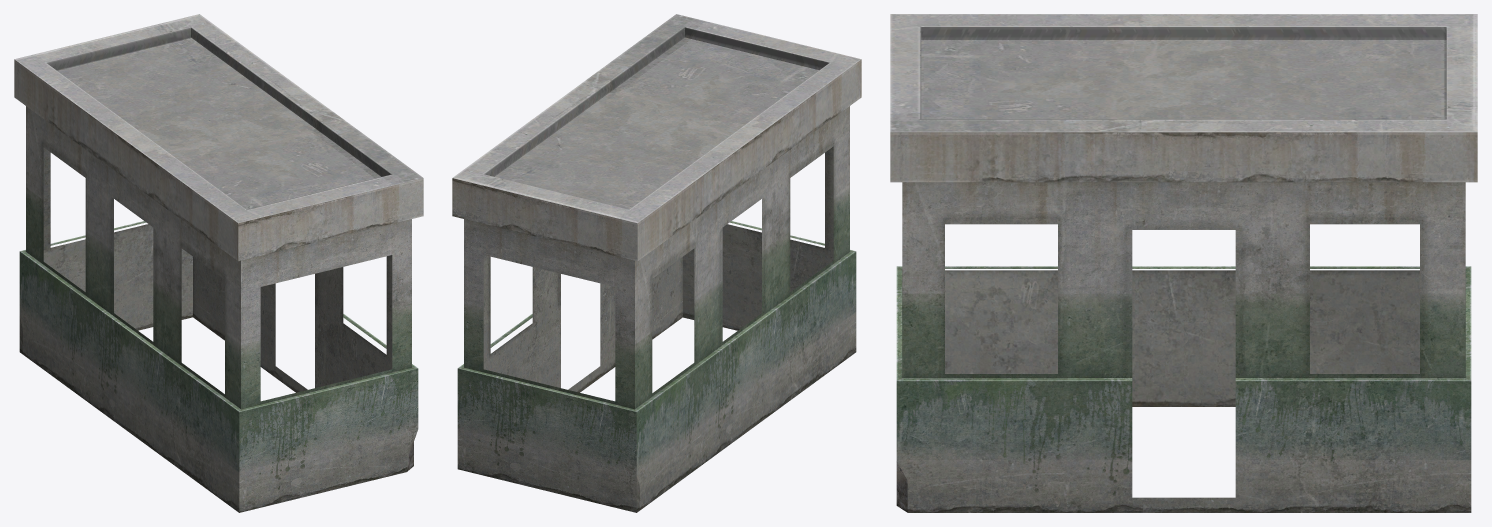
Rendered from Building_Mws02_lod2.glb.
3 renders of one model, left to right at view 1: azimuth 30°, elevation 25°; view 2: azimuth 150°, elevation 25°; view 3: azimuth 270°, elevation 25°, orthographic. The views are drawn at different scales.
Visible parts, largest first — view 1: xiutz_mws_02_lod2; view 2: xiutz_mws_02_lod2; view 3: xiutz_mws_02_lod2.
Boxes of the visible parts, box(x1,y1,x2,y2) form: xiutz_mws_02_lod2: box(14, 14, 423, 512); xiutz_mws_02_lod2: box(452, 14, 861, 512); xiutz_mws_02_lod2: box(890, 14, 1477, 512).
Size of the model in its own units: 3.42 by 5.14 by 7.15.
1 material, 1 textured.
